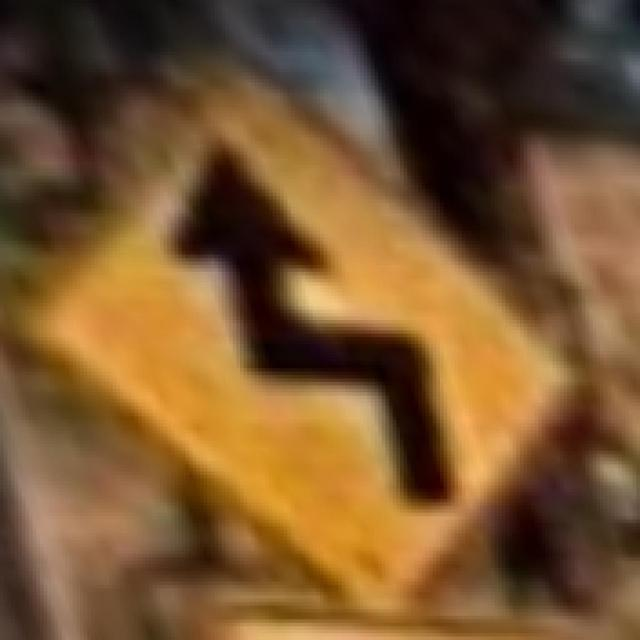Tikungan Ganda Pertama Ke Kiri: (18, 72, 596, 602)
